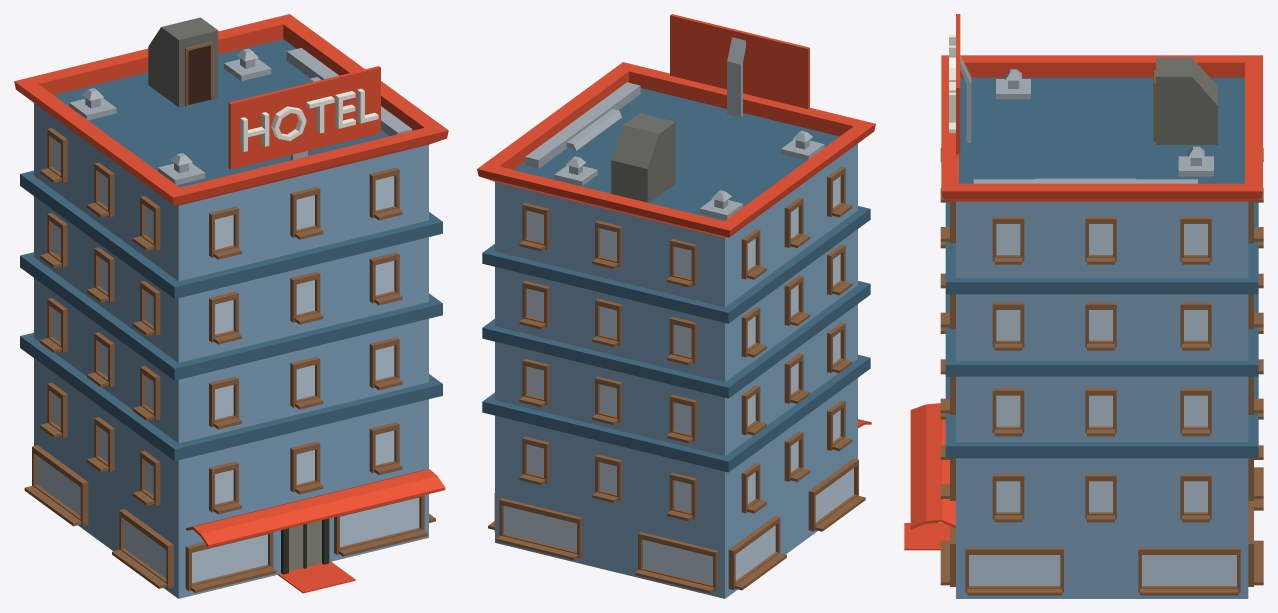
The model's file is Hotel_A.fbx.
3 views of the same model, side by side, from view 1: azimuth 30°, elevation 25°; view 2: azimuth 150°, elevation 25°; view 3: azimuth 270°, elevation 25° (orthographic). The views are drawn at different scales.
Visible parts, largest first — view 1: Hotel_A; view 2: Hotel_A; view 3: Hotel_A.
Part boxes in pixels (x1=…): Hotel_A: x1=14, y1=14, x2=448, y2=598; Hotel_A: x1=477, y1=14, x2=875, y2=598; Hotel_A: x1=904, y1=14, x2=1263, y2=598.
Size of the model in its own units: 886 by 1471 by 983.
